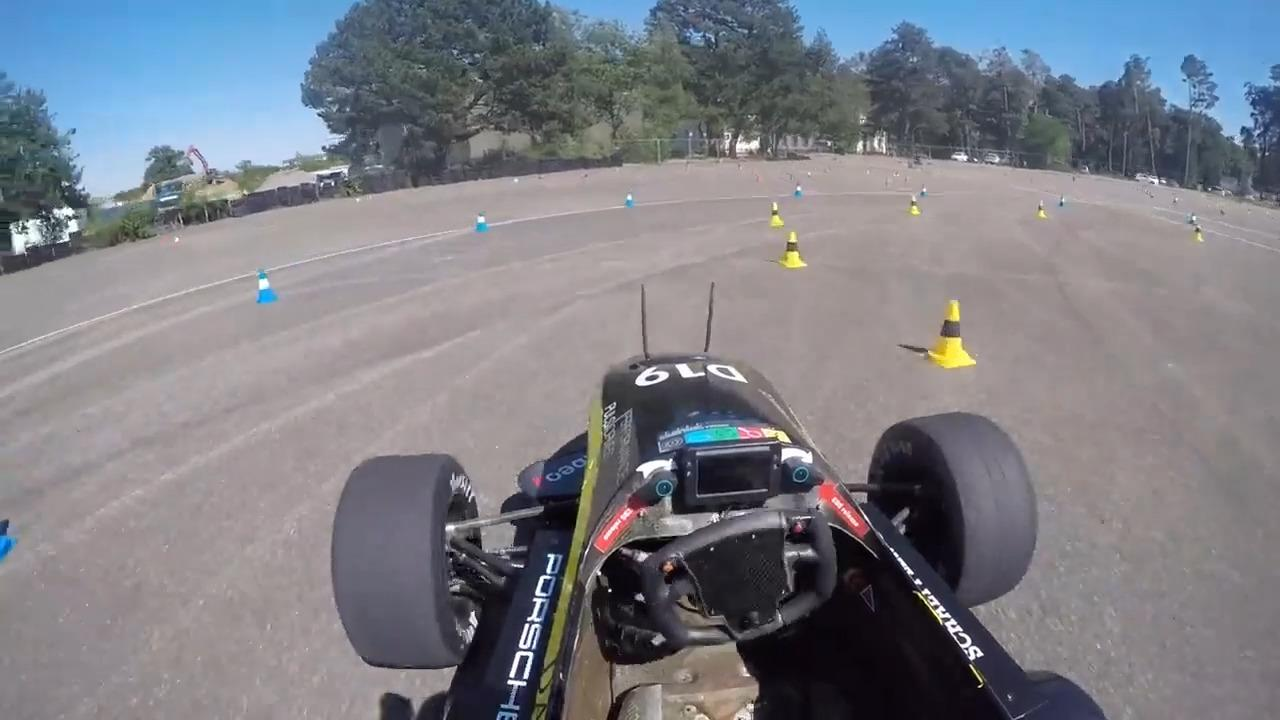blue_cone: (254, 266, 278, 305), (471, 211, 487, 234), (623, 188, 635, 211), (792, 180, 803, 199), (917, 182, 927, 199), (1056, 191, 1066, 207), (1187, 210, 1197, 226)
yellow_cone: (919, 294, 974, 372), (781, 231, 806, 269), (766, 201, 784, 228), (1034, 196, 1047, 219), (1192, 224, 1205, 244), (907, 195, 919, 216)
